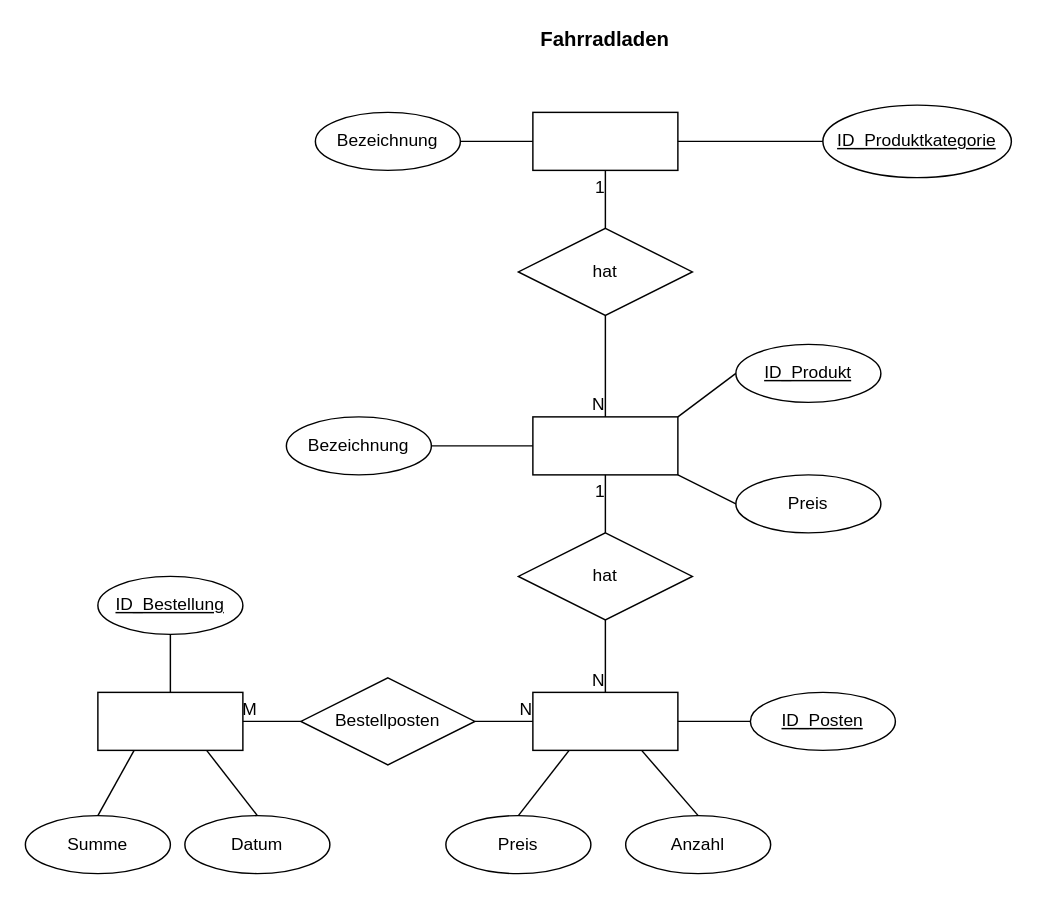
This 1037x899 diagram has some shape labels left out. The shapes that lost their labels are listed below. From the top down, each one's centre as x and y in pixels, then its label:
(x=604, y=140): Produktkategorie
(x=604, y=445): Produkt
(x=169, y=720): Bestellung
(x=604, y=720): Posten
